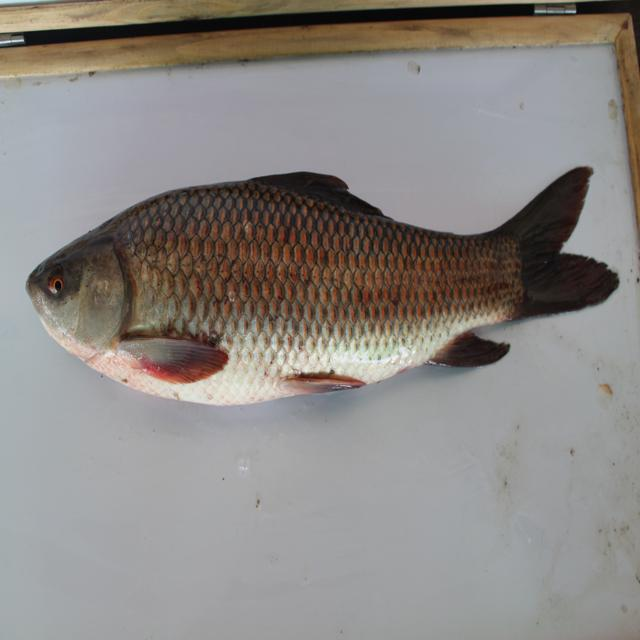Rohu: (22, 160, 619, 411)
